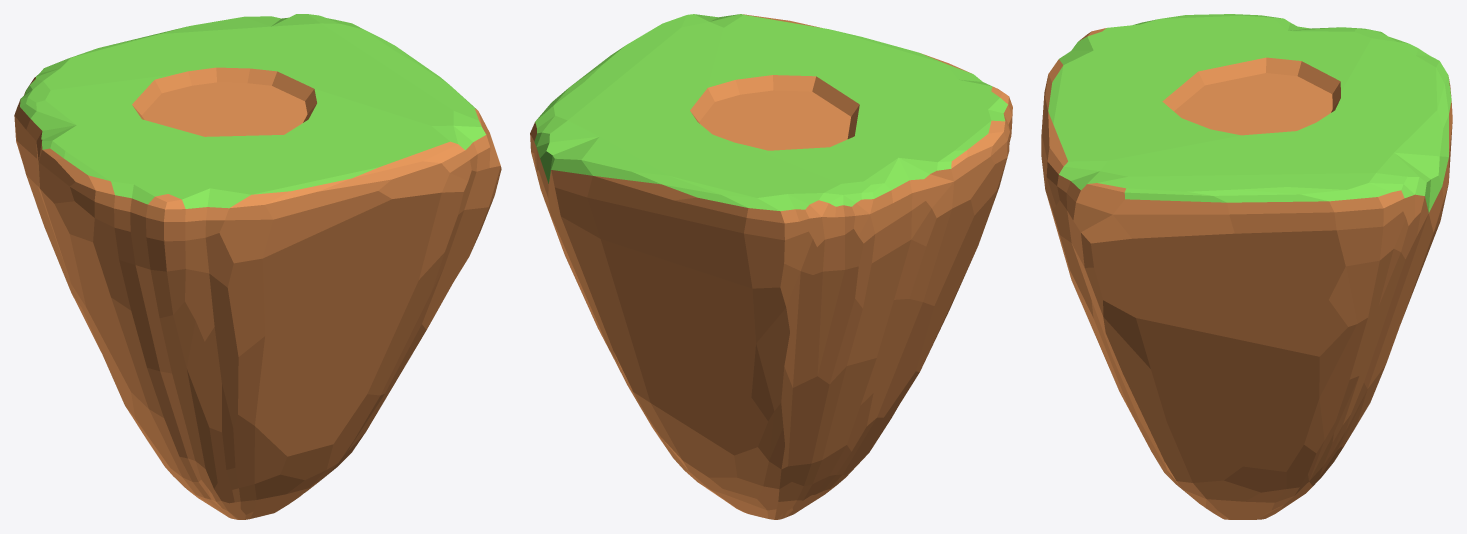
File: island_v4.fbx
3 views of the same model, side by side, from view 1: azimuth 30°, elevation 25°; view 2: azimuth 150°, elevation 25°; view 3: azimuth 270°, elevation 25° (orthographic).
Parts seen in each view (by area): view 1: Plane; view 2: Plane; view 3: Plane.
Boxes of the visible parts, <box> form: Plane: <box>14,14,501,519</box>; Plane: <box>530,14,1012,519</box>; Plane: <box>1041,14,1452,519</box>.
Bounding box in the file's own units: 1648 × 1671 × 1532.
